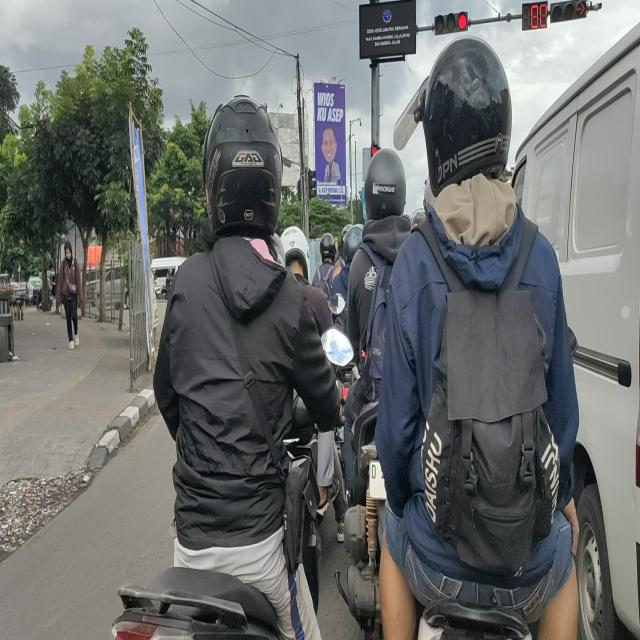helmet: (429, 39, 508, 183), (207, 96, 283, 236), (367, 151, 405, 216), (281, 230, 312, 279), (344, 228, 363, 266), (321, 232, 336, 261)
